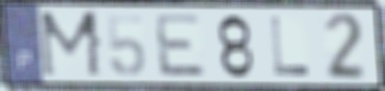2: (321, 11, 369, 83)
5: (104, 12, 147, 78)
8: (215, 13, 255, 79)
E: (152, 12, 210, 79)
L: (267, 15, 313, 77)
M: (37, 9, 105, 80)
